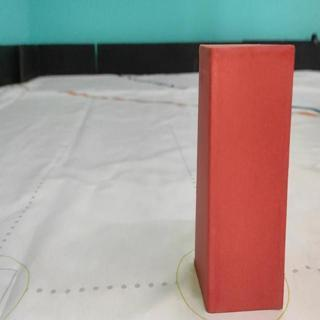redbox: (193, 42, 296, 315)
